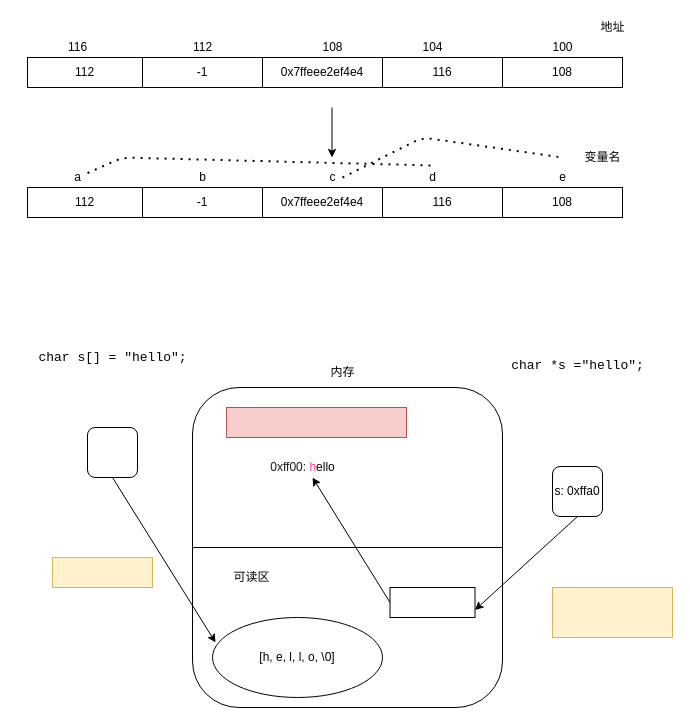
Image size: 690x725. Some labels were removed from this diagram. The shapes that lost their labels are listed below. From the top down, each one's box as (x1, y1, x2, y2) in pixels, then its label:
(226, 406, 406, 438): 代码区、只读 生命周期为程序启动到程序停止
(86, 426, 138, 478): s: 0xff11
(52, 556, 152, 588): 1. 不能修改指向 2. 可以修改值
(389, 586, 475, 618): 0xffa0: 0xff00
(552, 586, 672, 638): 1. 不能修改值 2. 可以修改指向 3. 指向第一个字符h
